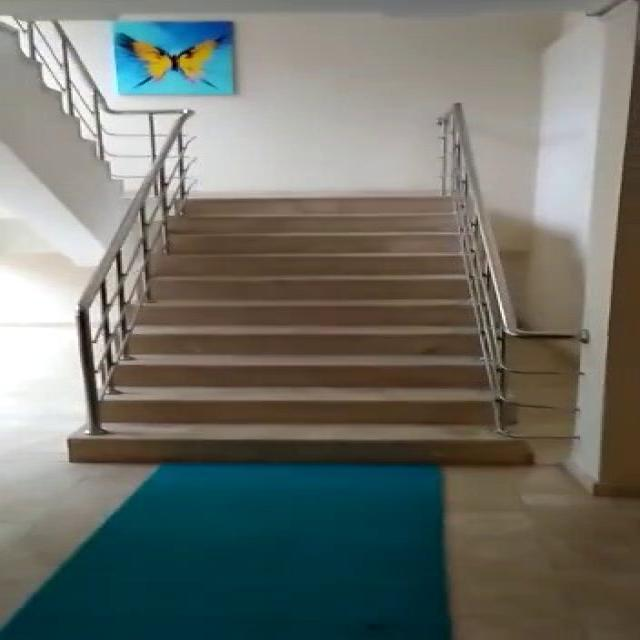stairs: (67, 193, 551, 465)
